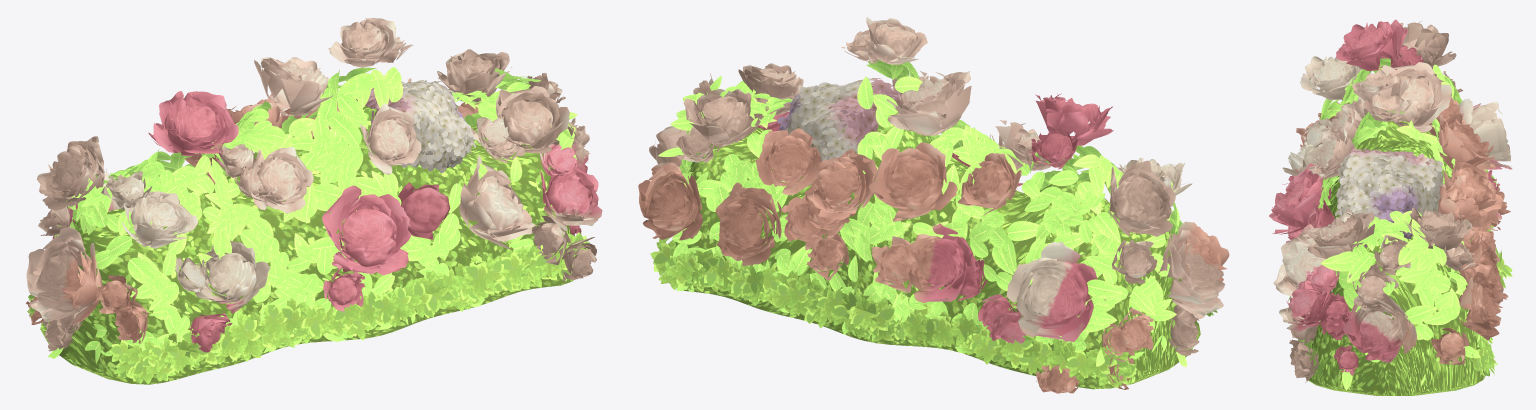
The model's file is kk1002B_sample.glb.
3 renders of one model, left to right at view 1: azimuth 30°, elevation 25°; view 2: azimuth 150°, elevation 25°; view 3: azimuth 270°, elevation 25°, orthographic. The views are drawn at different scales.
Visible parts, largest first — view 1: FlowerBank_1m; view 2: FlowerBank_1m; view 3: FlowerBank_1m.
Boxes of the visible parts, box(x1,y1,x2,y2) form: FlowerBank_1m: box(26, 18, 602, 384); FlowerBank_1m: box(638, 17, 1229, 393); FlowerBank_1m: box(1269, 19, 1512, 395).
Size of the model in its own units: 1.28 by 0.5736 by 0.5706.
Materials: 7 (6 with a texture image).
